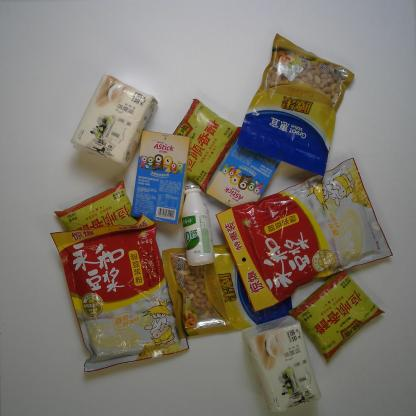Dessert: (130, 129, 193, 225), (205, 136, 282, 208)
Dried Fruit: (237, 32, 355, 178), (162, 244, 294, 336)
Instant Drink: (215, 157, 394, 313), (49, 211, 190, 372)
Milk: (182, 184, 215, 267)
Seasoner: (288, 269, 386, 366), (172, 98, 242, 194), (54, 179, 139, 232)
Tissue: (70, 73, 158, 168), (242, 315, 322, 414)
